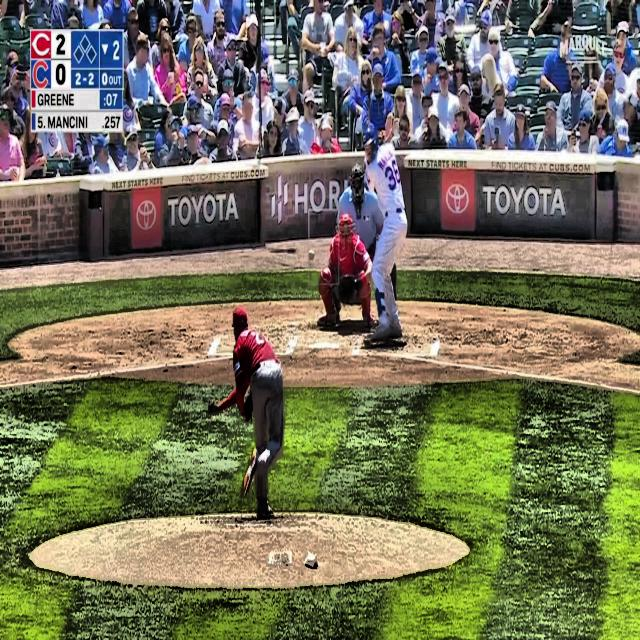baseball: (308, 248, 316, 262)
